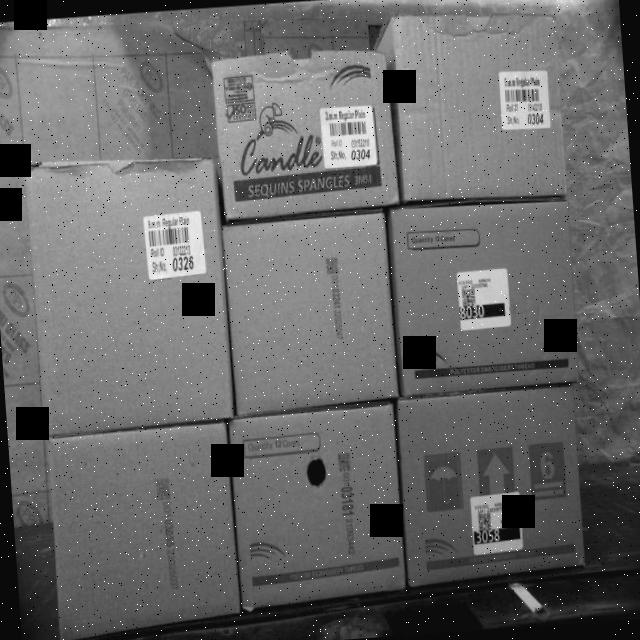box: (22, 150, 235, 432), (44, 422, 240, 637), (386, 190, 579, 391), (396, 386, 586, 578), (389, 5, 566, 208), (221, 210, 399, 410), (228, 408, 406, 601), (212, 45, 401, 223)
